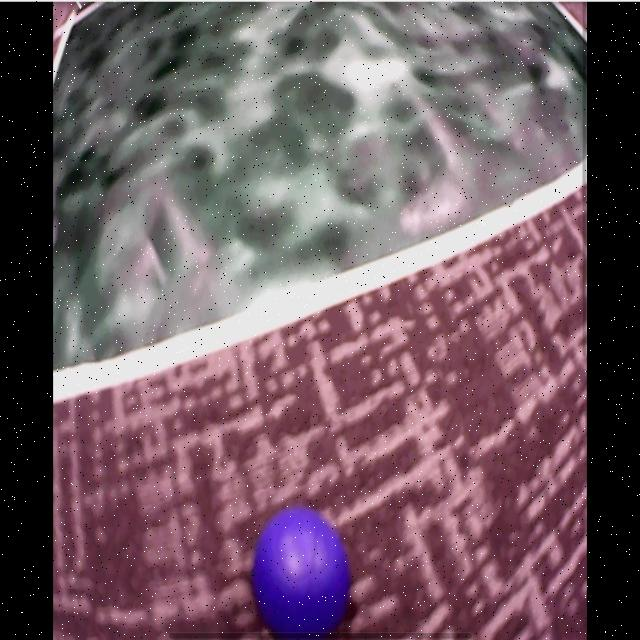ball: (254, 510, 351, 640)
